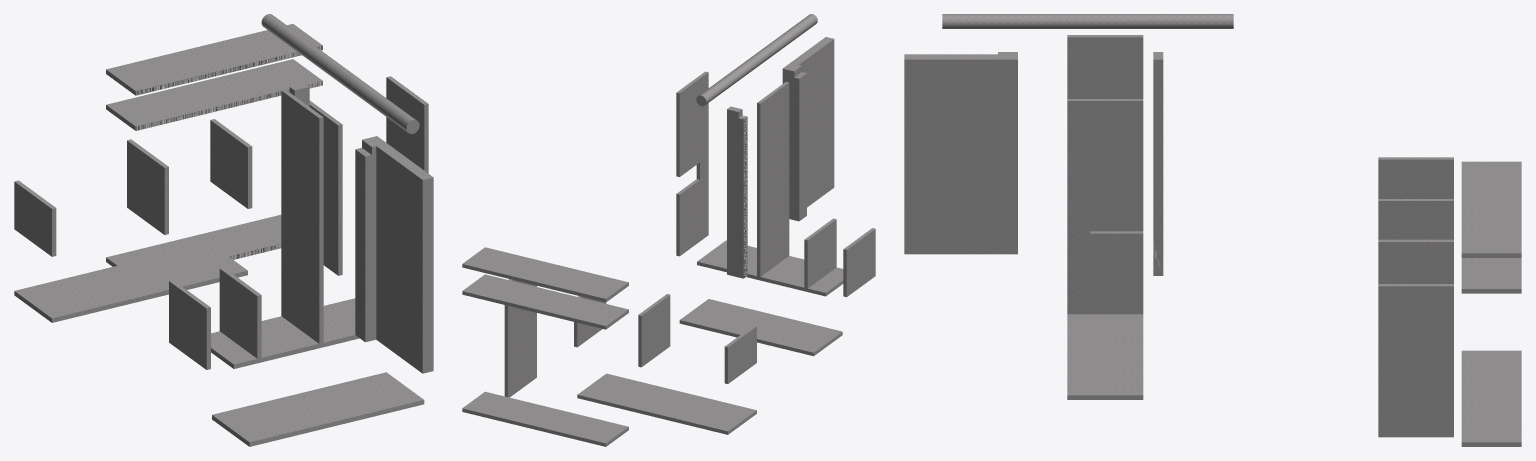
The picture shows the model from 3 angles, left to right: view 1: azimuth 30°, elevation 25°; view 2: azimuth 150°, elevation 25°; view 3: azimuth 270°, elevation 25°; orthographic projection. The views are drawn at different scales.
Parts seen in each view (by area): view 1: 0_3_1_2_1_2; view 2: 0_3_1_2_1_2; view 3: 0_3_1_2_1_2.
Boxes of the visible parts, bbox=[...] form: 0_3_1_2_1_2: bbox=[14, 14, 433, 446]; 0_3_1_2_1_2: bbox=[462, 14, 875, 446]; 0_3_1_2_1_2: bbox=[904, 14, 1521, 446].
Bounding box in the file's own units: 14.35 × 15.32 × 24.42.
Materials: 18 (18 with a texture image).
